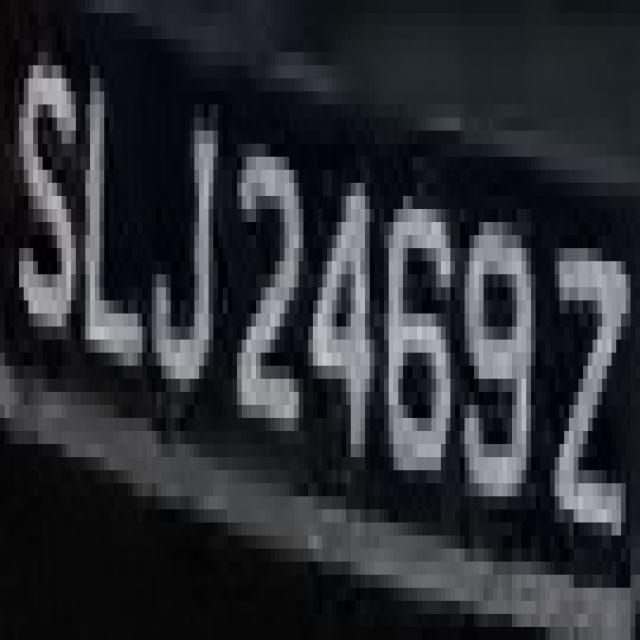2: (223, 118, 308, 470)
4: (299, 131, 384, 496)
6: (379, 143, 455, 522)
9: (455, 170, 545, 548)
J: (142, 39, 232, 431)
L: (76, 39, 161, 392)
S: (15, 26, 86, 340)
Z: (545, 196, 631, 562)
